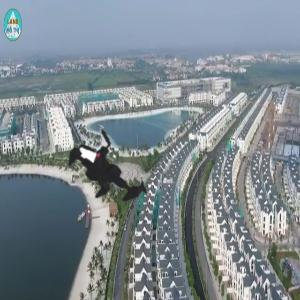drone: (46, 101, 180, 235)
